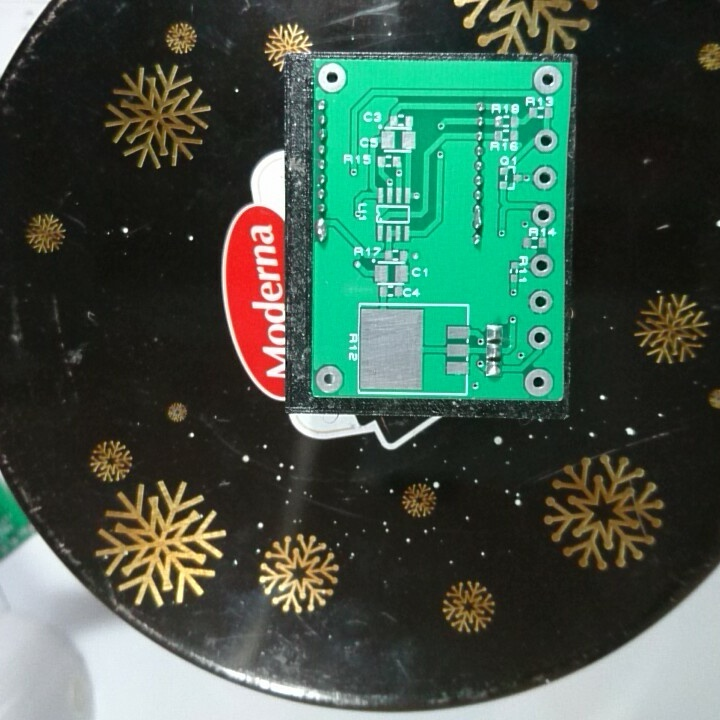F: (521, 364, 557, 400), (314, 60, 349, 97), (532, 63, 565, 99), (531, 163, 562, 195), (314, 363, 345, 395), (532, 126, 563, 155), (530, 200, 559, 229), (528, 252, 557, 280), (526, 289, 555, 317), (526, 323, 554, 352)
P: (313, 215, 331, 246), (470, 202, 487, 233)
